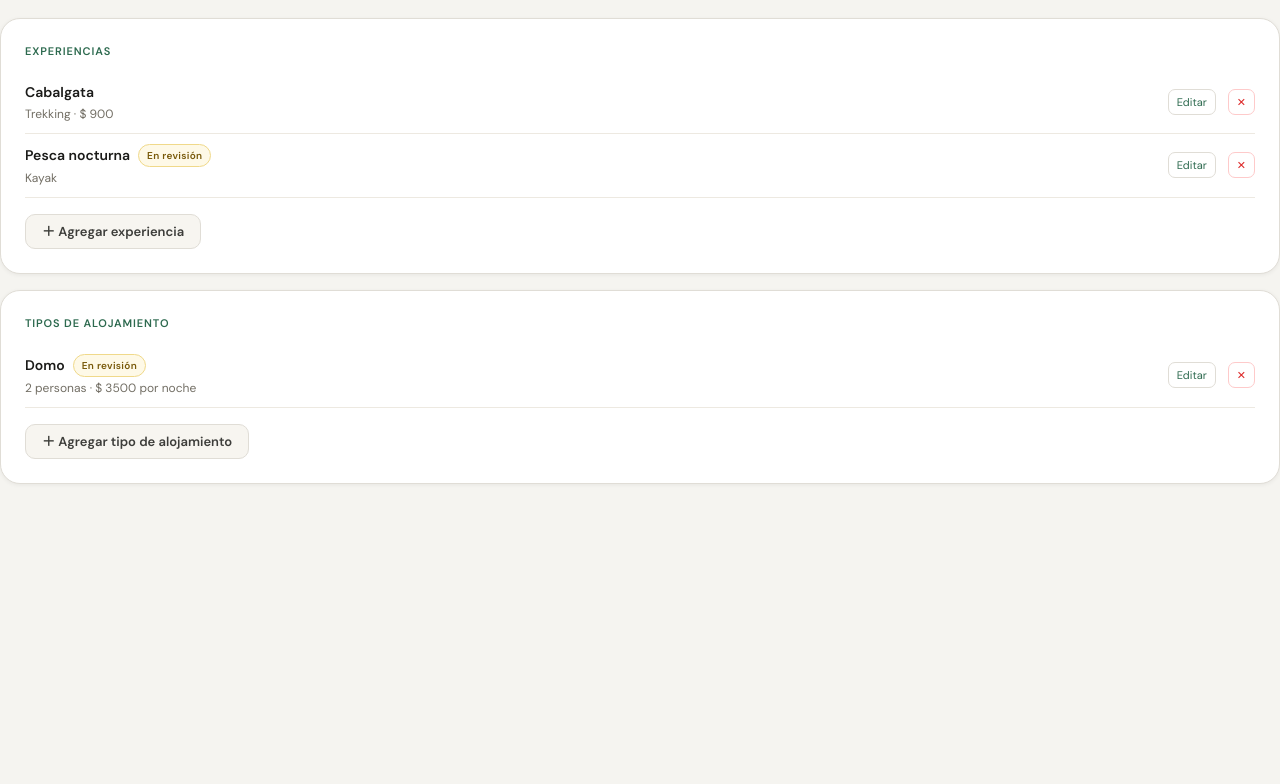
Scenario: ContentTab › guarda una experiencia nueva y avisa que queda en revisión
Expected: the text "Cabalgata" is shown, [25, 82, 94, 102]
Step 1. Click the button "＋ Agregar experiencia" → x=113, y=231, box [25, 214, 201, 249]
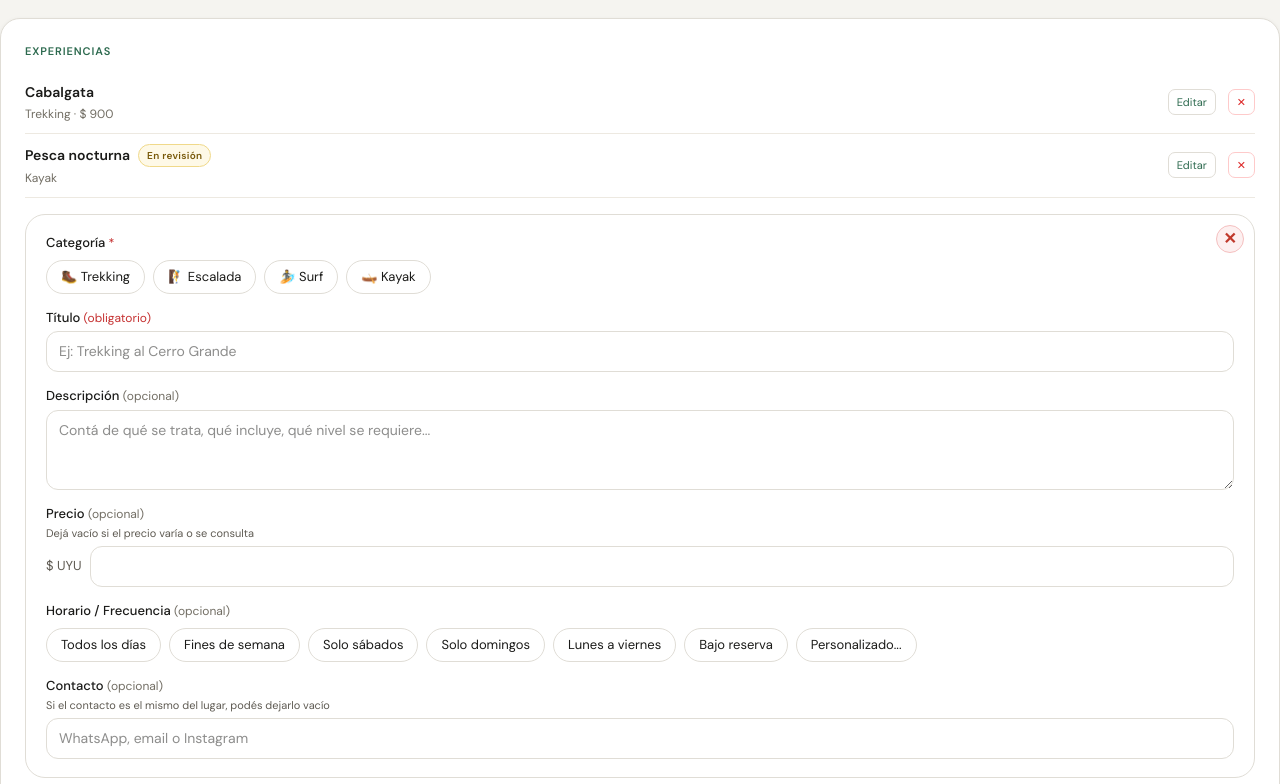
Step 2. Click the button "🏄 Surf" → x=301, y=277, box [264, 260, 338, 294]
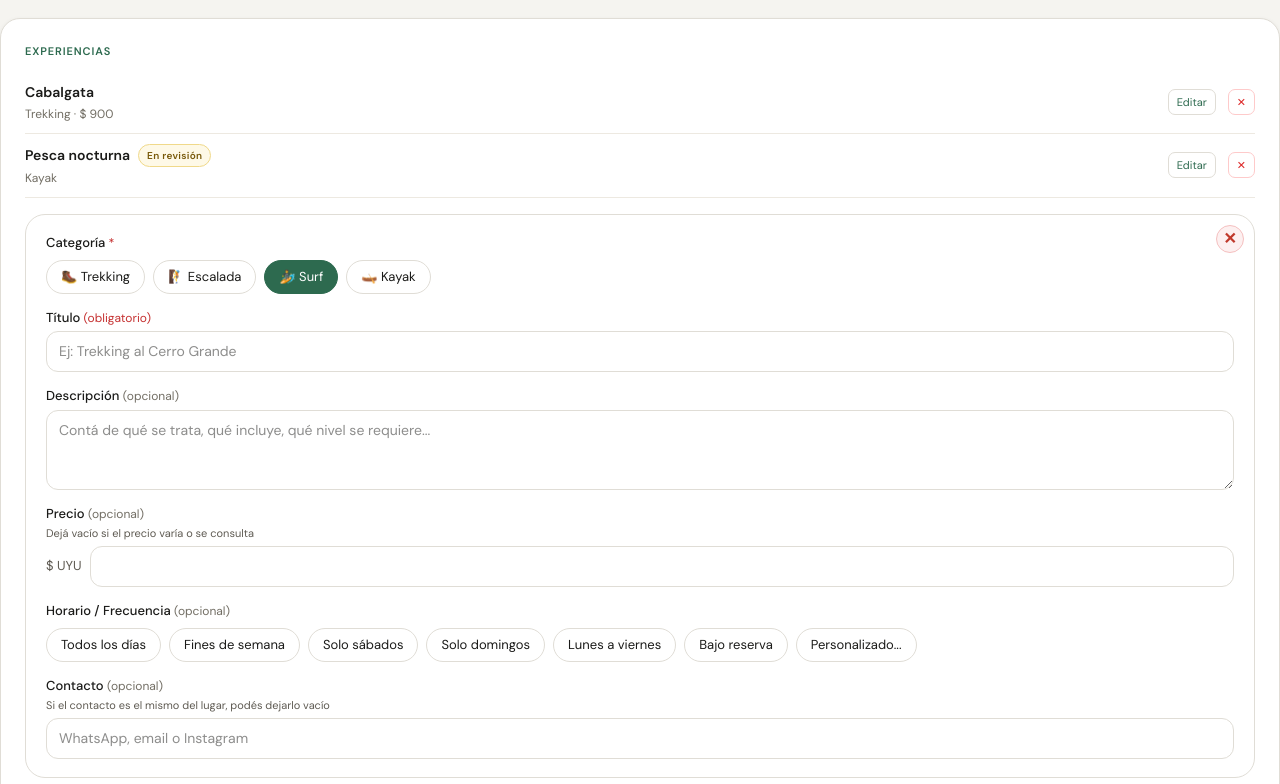
Step 3. Type "Clase de surf" into the field with placeholder "Ej: Trekking al Cerro Grande" → x=640, y=352, box [46, 331, 1234, 372]
(page scrolled)
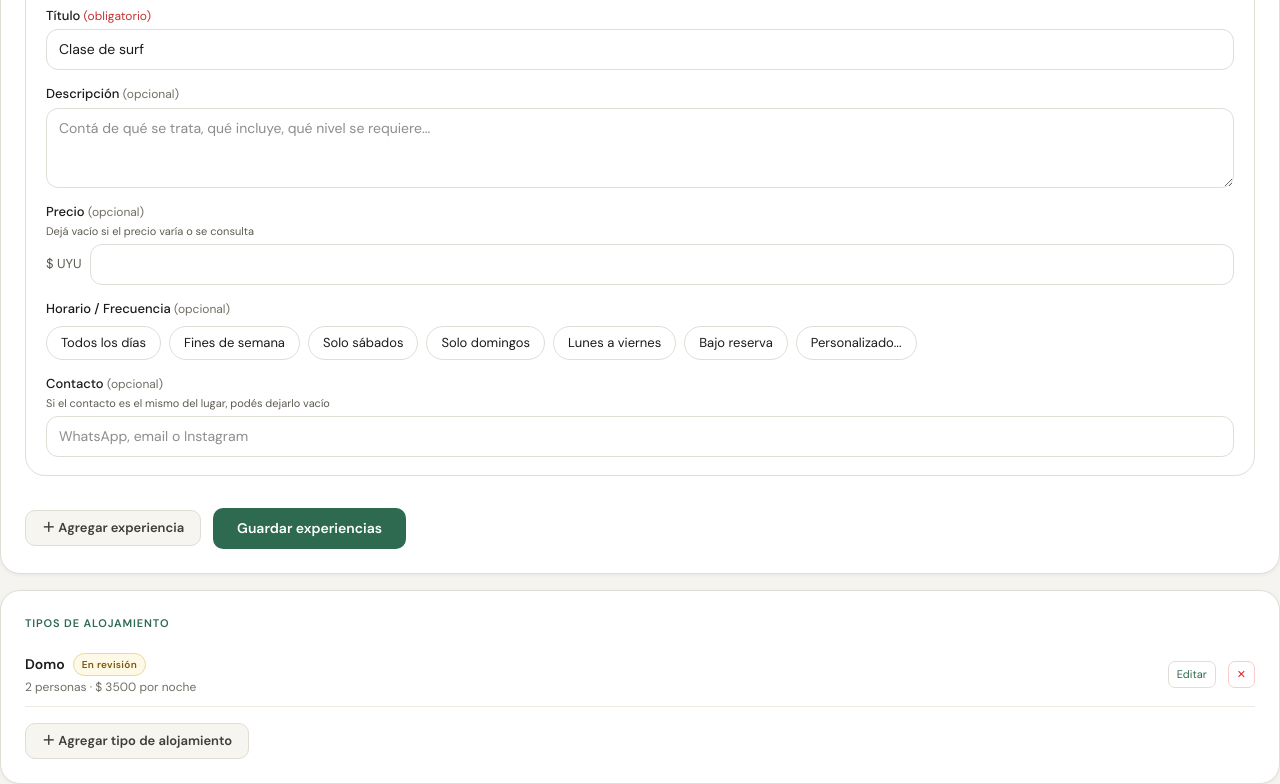
Step 4. Click the button "Guardar experiencias" → x=310, y=528, box [213, 508, 406, 548]
(page scrolled)
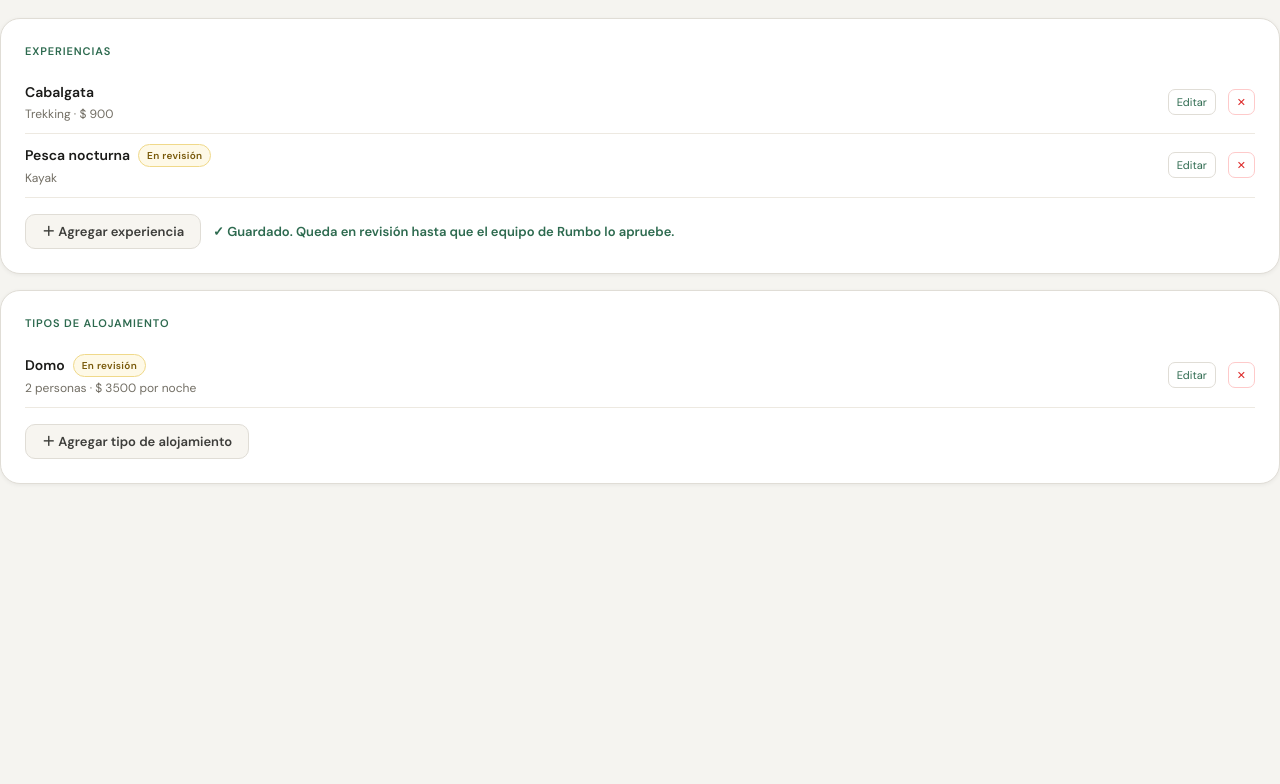
Result: the text "✓ Guardado. Queda en revisión hasta que el equipo de Rumbo lo apruebe." is shown at [213, 222, 674, 241]
